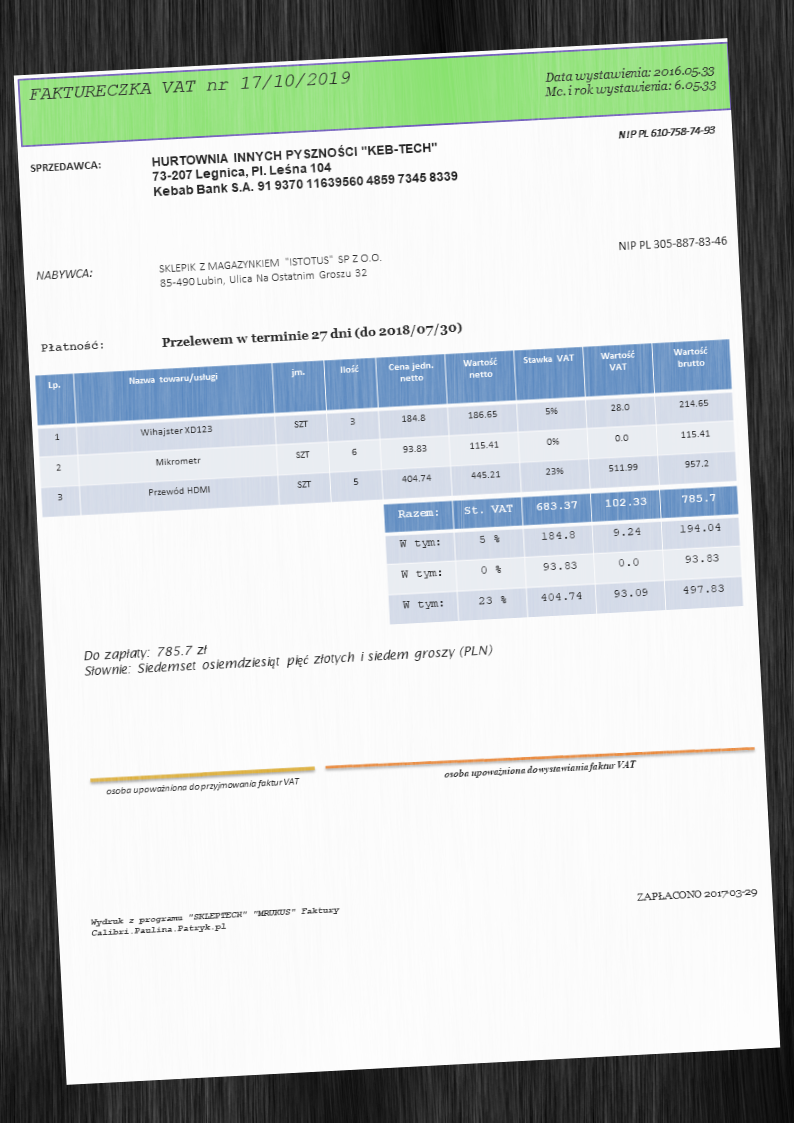Table: (33, 336, 738, 519), (381, 485, 745, 626)
TextBox: (80, 625, 495, 679), (148, 136, 461, 201), (26, 68, 352, 105), (159, 318, 463, 351), (156, 249, 385, 292), (88, 903, 343, 939), (541, 60, 719, 103), (104, 774, 303, 800), (441, 757, 638, 781), (633, 884, 758, 906), (614, 232, 729, 254), (616, 122, 718, 142), (27, 156, 103, 175), (38, 337, 106, 355), (34, 264, 94, 282)
